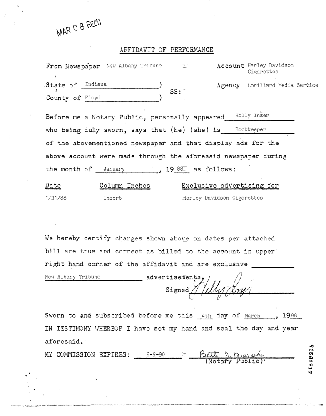textline: (189, 285, 295, 295), (45, 272, 143, 282), (188, 350, 295, 359), (220, 126, 295, 135), (224, 113, 295, 122), (80, 82, 159, 90), (80, 95, 159, 103), (94, 166, 158, 174), (133, 349, 181, 359), (251, 260, 295, 270), (243, 313, 275, 320), (173, 166, 190, 174), (196, 313, 213, 320), (289, 313, 303, 320)
